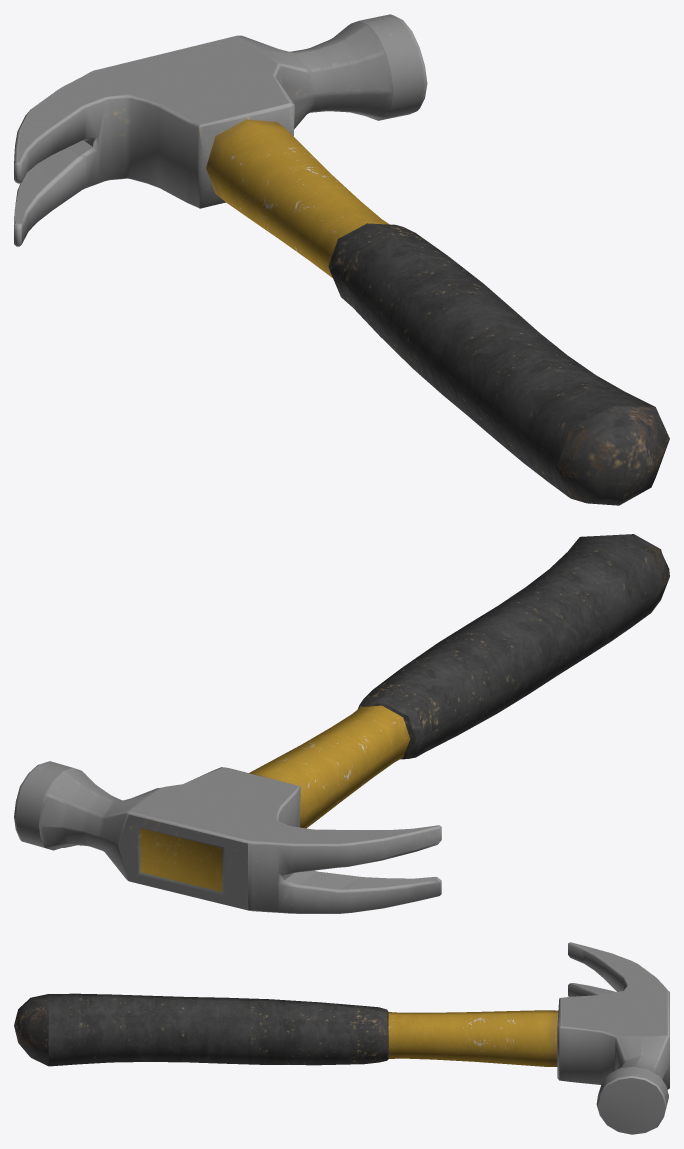
Rendered from MarteauScienceFiction.fbx.
3 renders of one model, top to bottom at view 1: azimuth 30°, elevation 25°; view 2: azimuth 150°, elevation 25°; view 3: azimuth 270°, elevation 25°, orthographic. The views are drawn at different scales.
Parts seen in each view (by area): view 1: MarteauScienceFiction; view 2: MarteauScienceFiction; view 3: MarteauScienceFiction.
Part boxes in pixels (box(x1,y1,x2,y2)): MarteauScienceFiction: box(14, 14, 669, 505); MarteauScienceFiction: box(14, 534, 669, 913); MarteauScienceFiction: box(14, 942, 669, 1134).
Size of the model in its own units: 17.48 by 3.65 by 34.99.
1 material, 1 textured.
